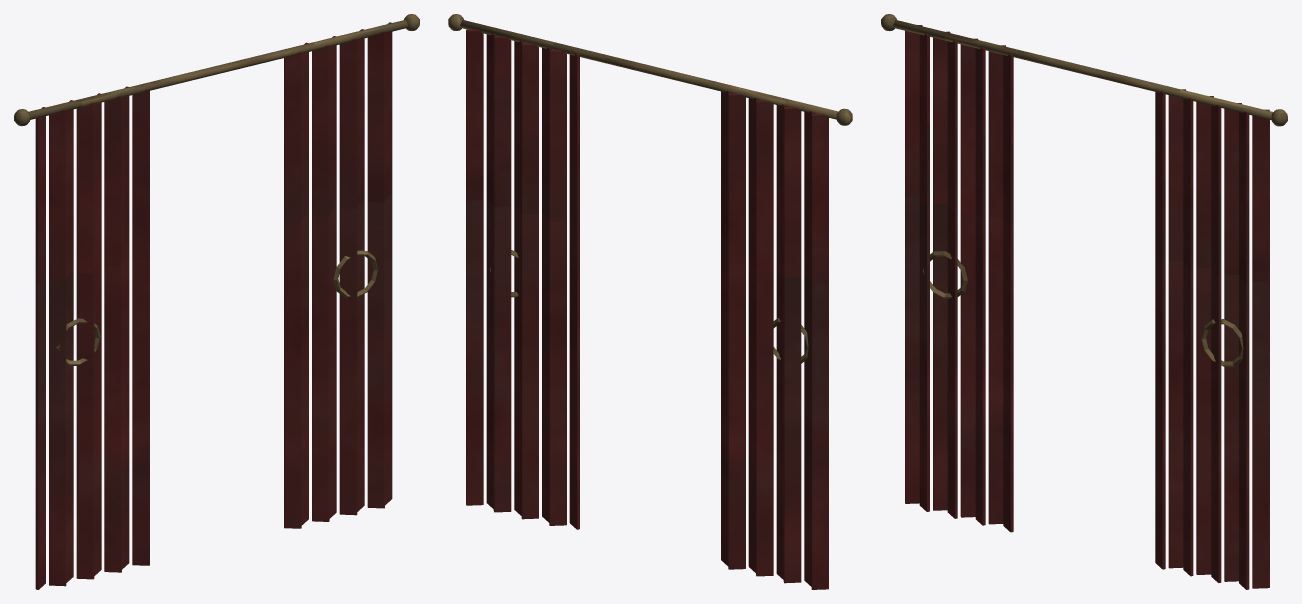
The model's file is L08_window_curtains_v1.glb.
The picture shows the model from 3 angles, left to right: view 1: azimuth 30°, elevation 25°; view 2: azimuth 150°, elevation 25°; view 3: azimuth 330°, elevation 25°; orthographic projection.
Visible parts, largest first — view 1: L08_window_curtains_v1; view 2: L08_window_curtains_v1; view 3: L08_window_curtains_v1.
Boxes of the visible parts, x1=… form: L08_window_curtains_v1: x1=14, y1=14, x2=419, y2=589; L08_window_curtains_v1: x1=448, y1=14, x2=852, y2=589; L08_window_curtains_v1: x1=881, y1=14, x2=1287, y2=589.
Bounding box in the file's own units: 1.74 × 2 × 0.0763.
Materials: 2 (2 with a texture image).
